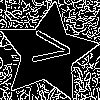V: (23, 28, 72, 68)
